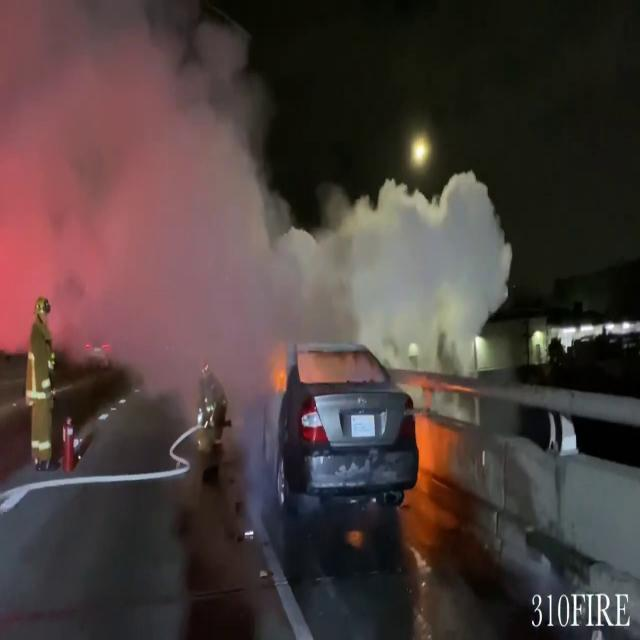Smoke: (0, 0, 290, 366), (286, 152, 514, 359)
